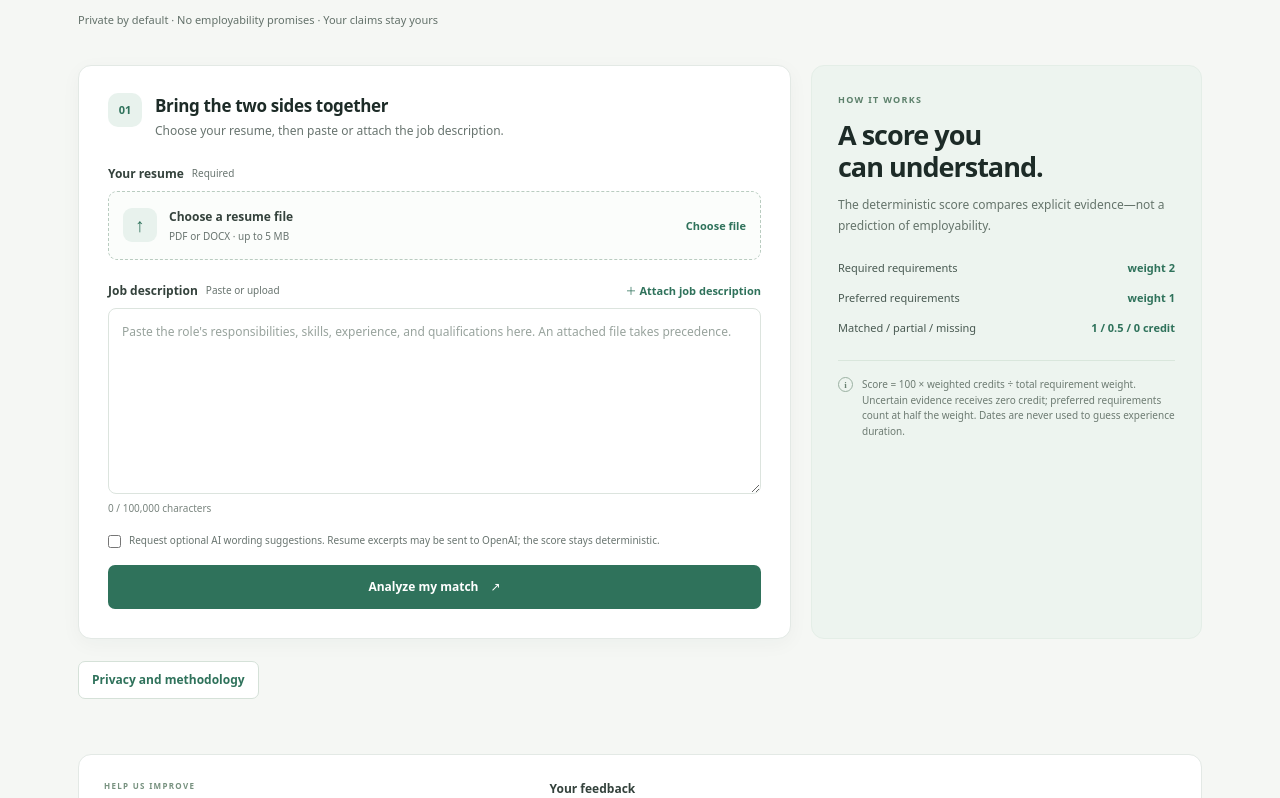
Test: ResumeIQ dashboard › reviews parsed requirements before analysis
This screenshot has width=1280, height=798.
(page scrolled)
Type "Senior Engineer. Python required." into the text box labelled "Job description Paste or upload" at (434, 401), box [108, 308, 761, 494]
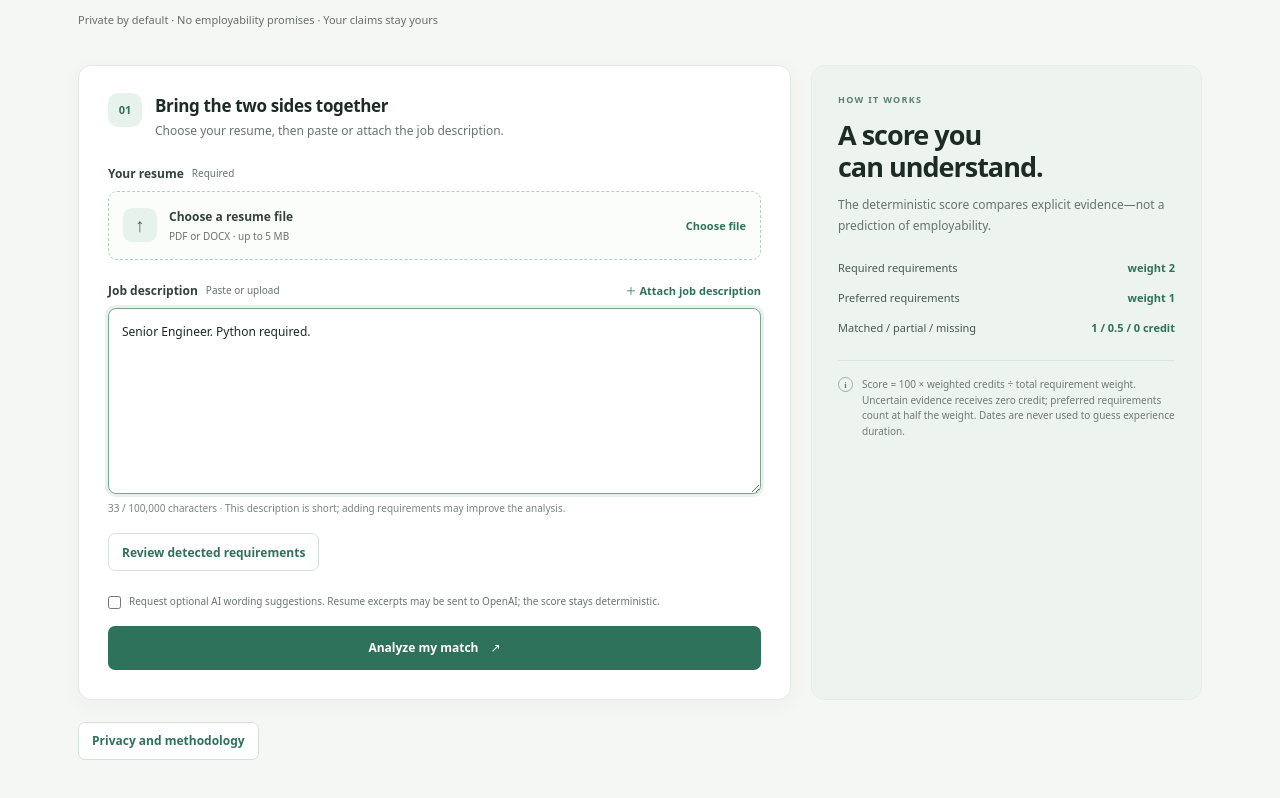
Click the button "Review detected requirements" at (214, 552), box [108, 533, 319, 571]
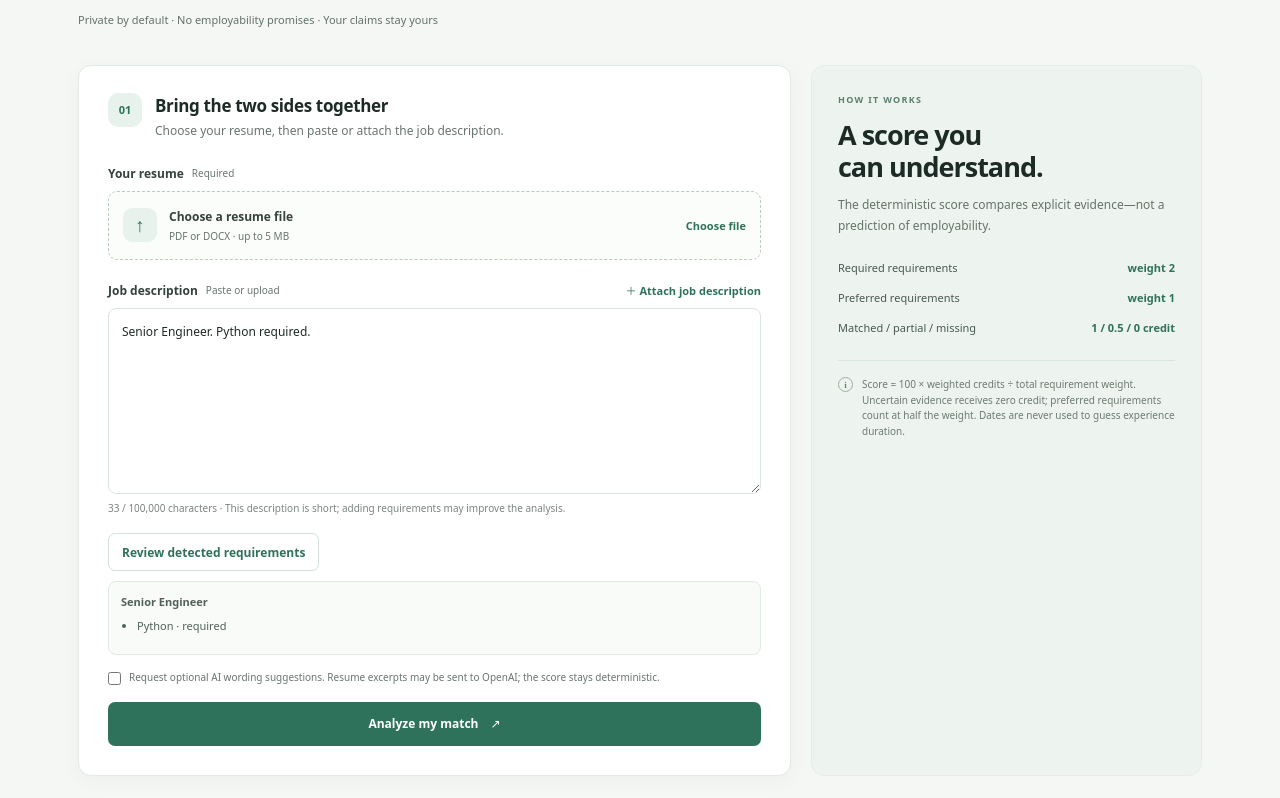
Now the text "Senior Engineer" is shown, box [121, 594, 208, 609]
Now the list item "Python · required" is shown, box [137, 618, 226, 633]
